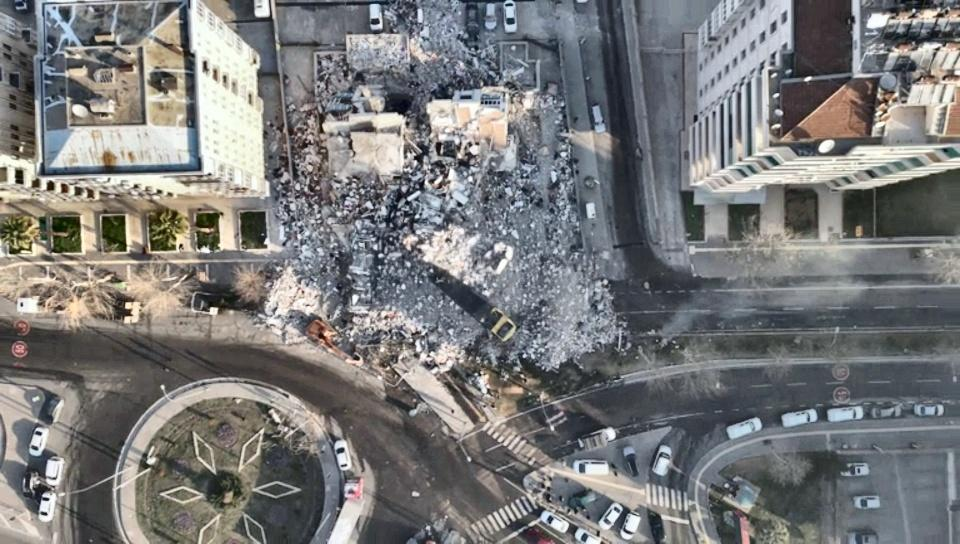kapali: (402, 291, 657, 342)
